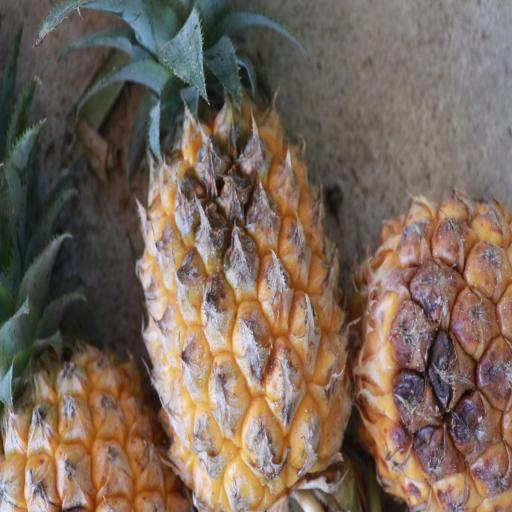Pineapple - v8 v1: (130, 4, 356, 512), (346, 191, 512, 512)
